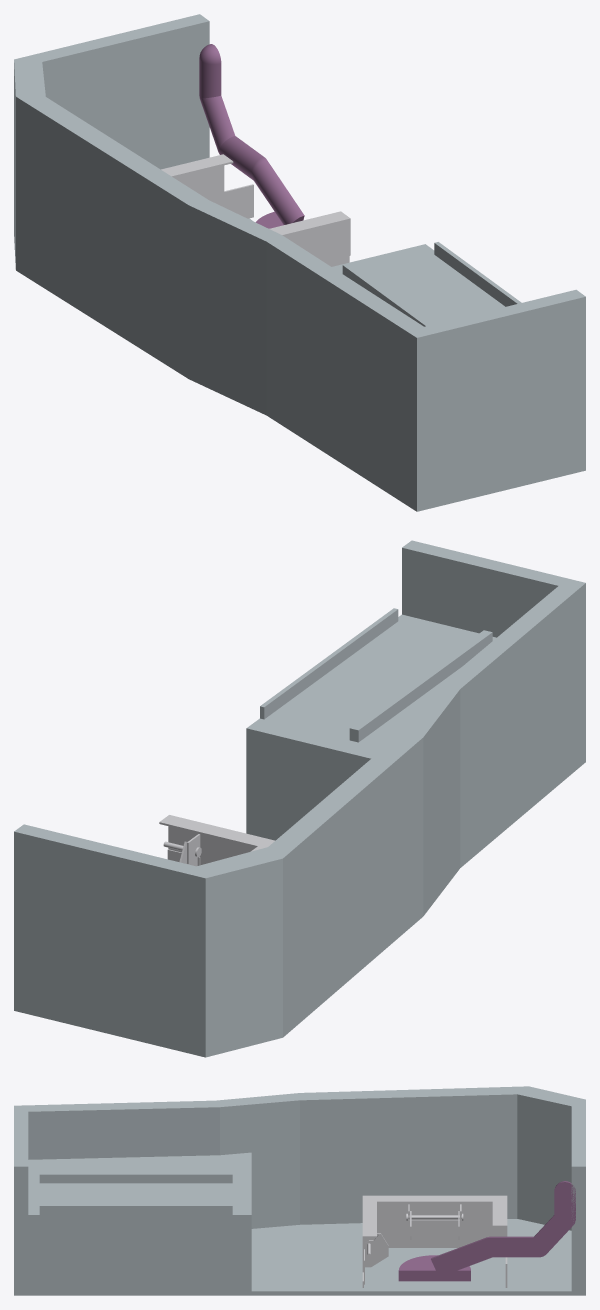
Rendered from baseline_pan_section.glb.
3 renders of one model, top to bottom at view 1: azimuth 30°, elevation 25°; view 2: azimuth 150°, elevation 25°; view 3: azimuth 270°, elevation 25°, orthographic. The views are drawn at different scales.
Visible parts, largest first — view 1: baseline_pan_section (×3); view 2: baseline_pan_section (×2); view 3: baseline_pan_section (×3).
Boxes of the visible parts, left/top/right/bottom form: baseline_pan_section (×3): left=14, top=14, right=585, bottom=511; baseline_pan_section (×2): left=14, top=540, right=585, bottom=1057; baseline_pan_section (×3): left=14, top=1086, right=585, bottom=1295.
Size of the model in its own units: 0.158 by 0.118 by 0.4747.
